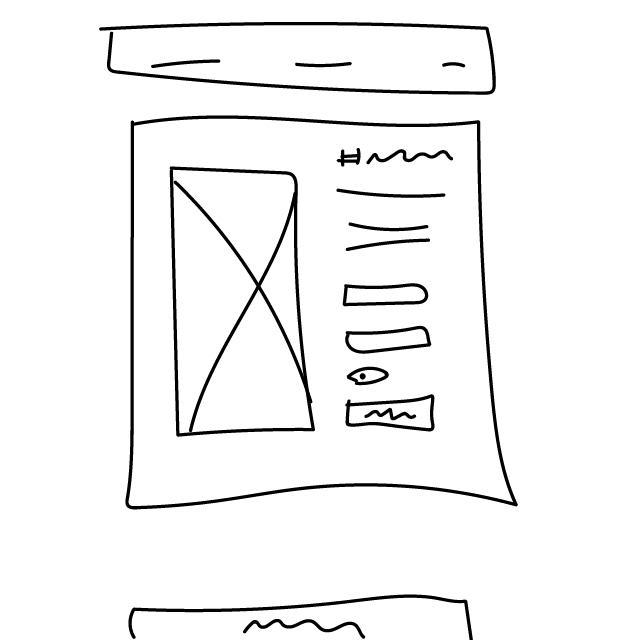button: (343, 393, 443, 435)
checkbox: (346, 365, 392, 389)
container: (118, 107, 535, 522)
footer: (122, 591, 487, 640)
frame: (162, 161, 326, 441)
heading: (338, 142, 461, 173)
input: (340, 326, 437, 357), (337, 280, 437, 310)
nav: (99, 14, 503, 100)
text: (333, 180, 456, 256)
